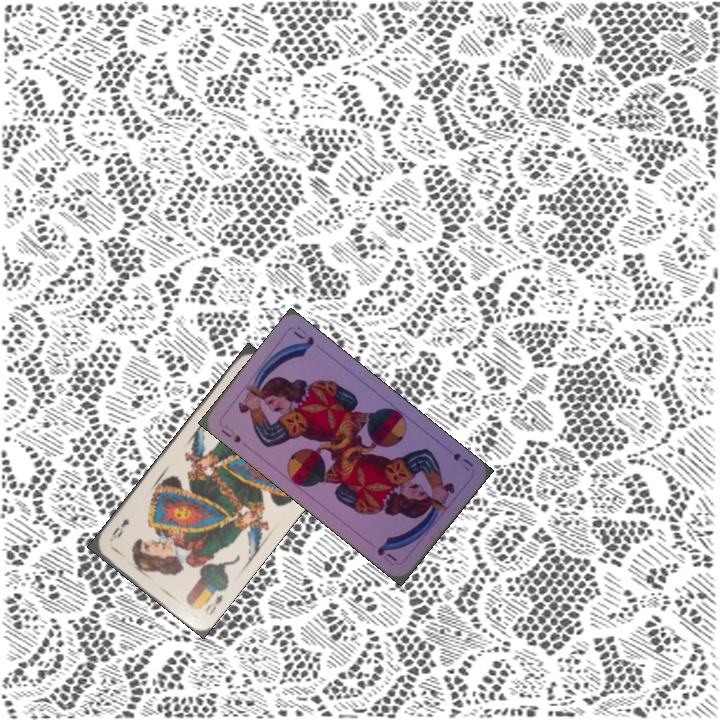EO: (201, 590, 225, 617)
SU: (449, 449, 476, 474), (217, 421, 244, 445)
